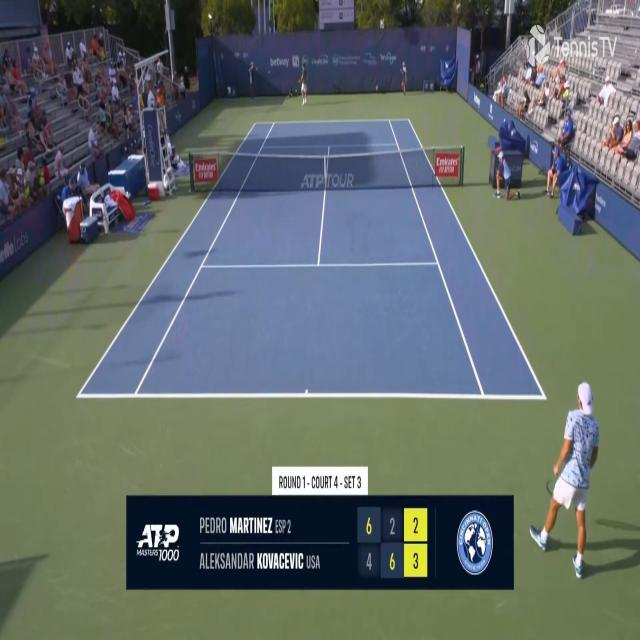tennis-player: (526, 374, 602, 585), (292, 62, 309, 106)
